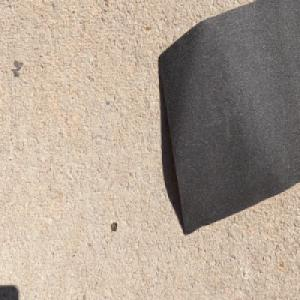PaintChip: (158, 0, 300, 237)
